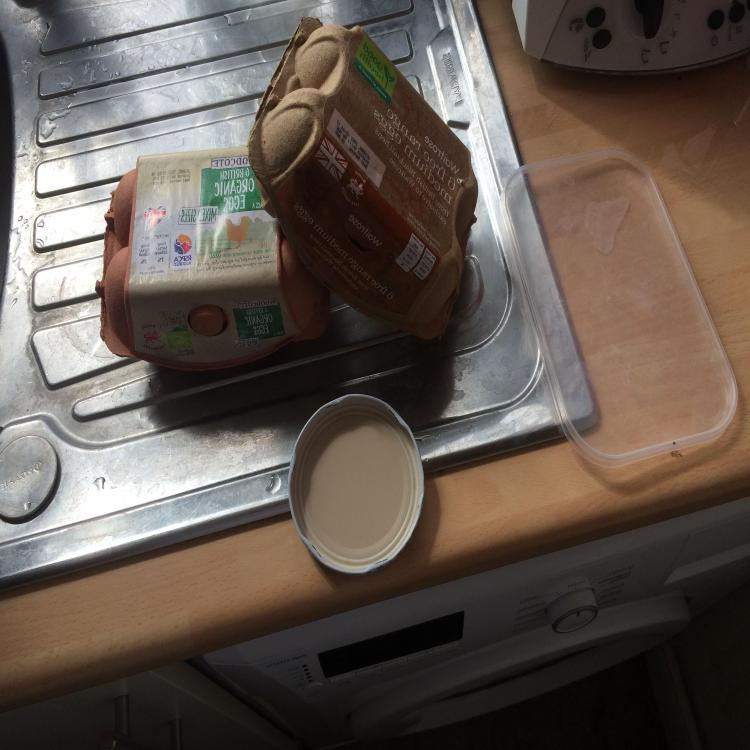Plastic lid: (498, 147, 738, 468)
